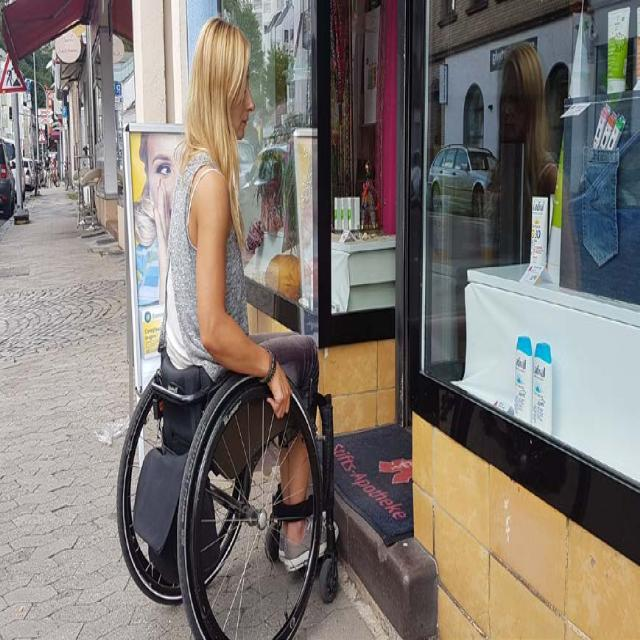wheelchairs: (115, 327, 350, 640)
